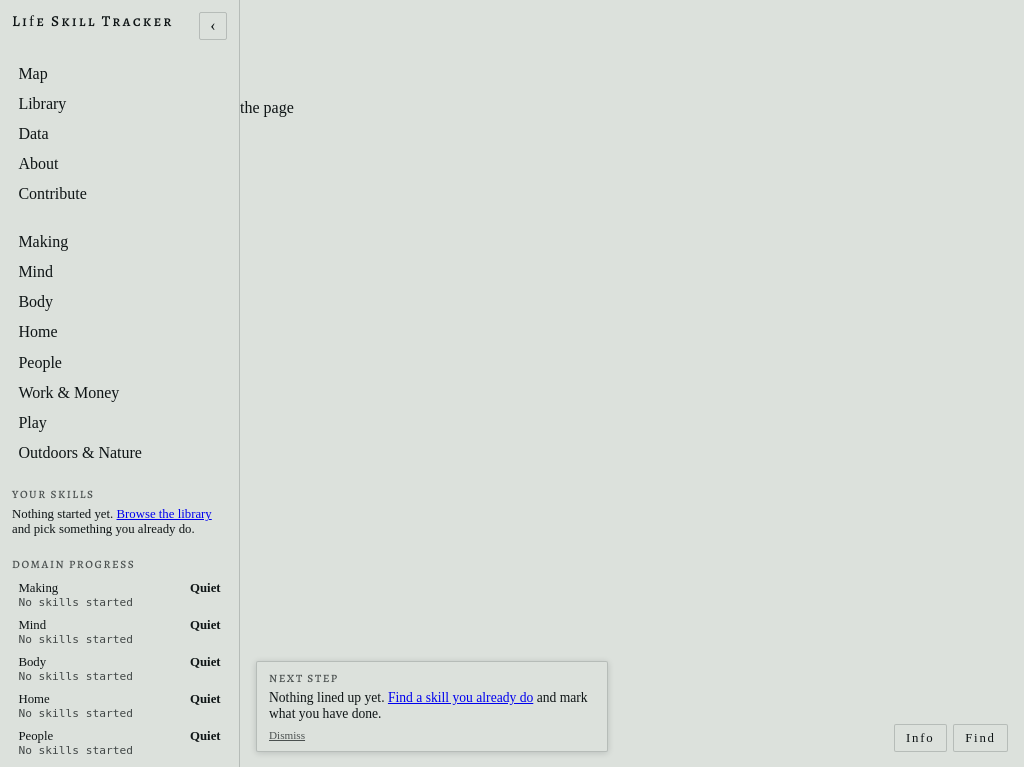
Test case: Q5 — the highlight persists across a camera move › survives entering a domain
Click the button "Find". click: (980, 738)
box: [953,724,1008,752]
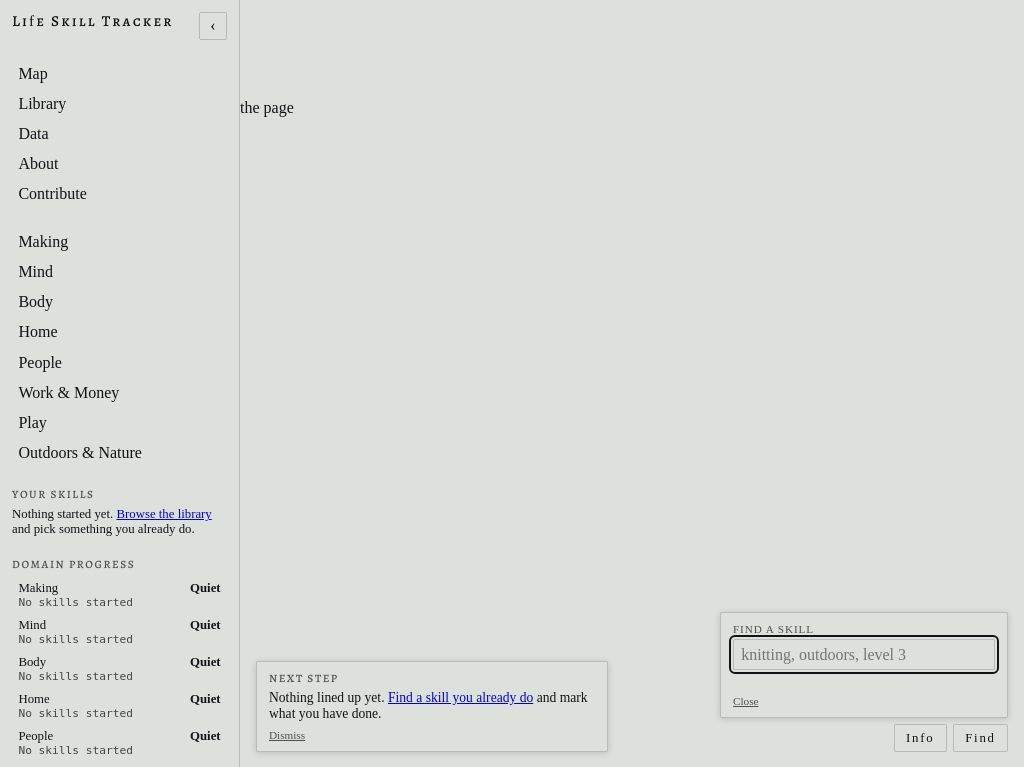
Type "making" into the field labelled "Find a skill". click: (864, 655)
box: [733,639,995,670]
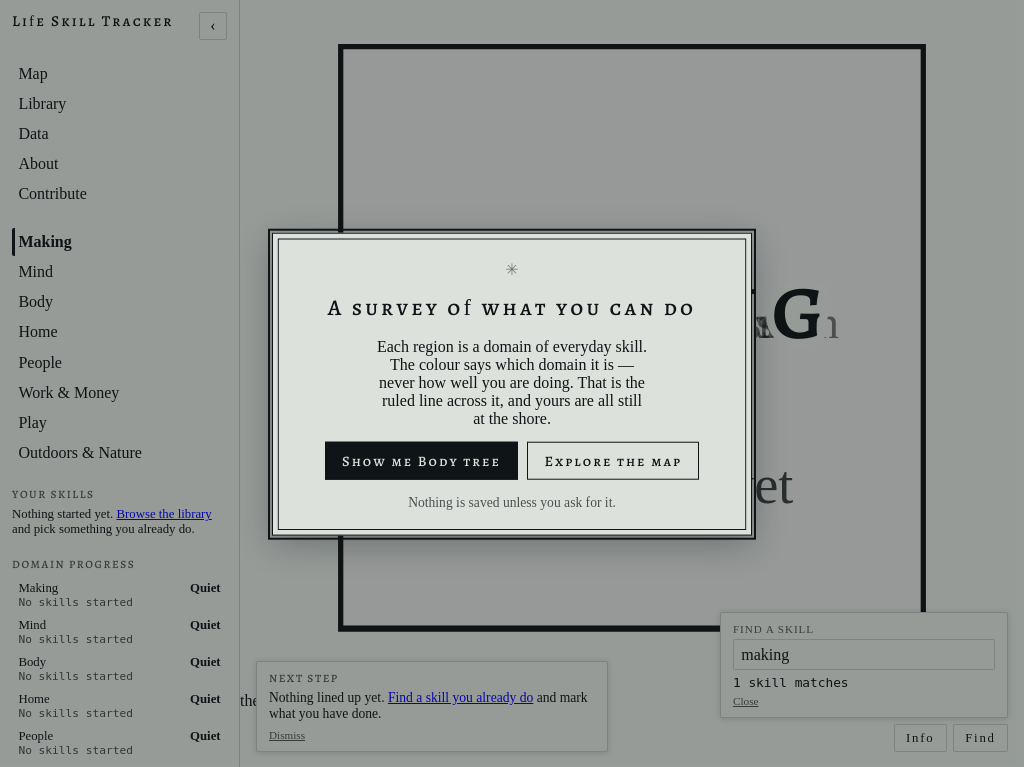
Expected: the message "1 skill matches" is shown, [733,675,849,690]
